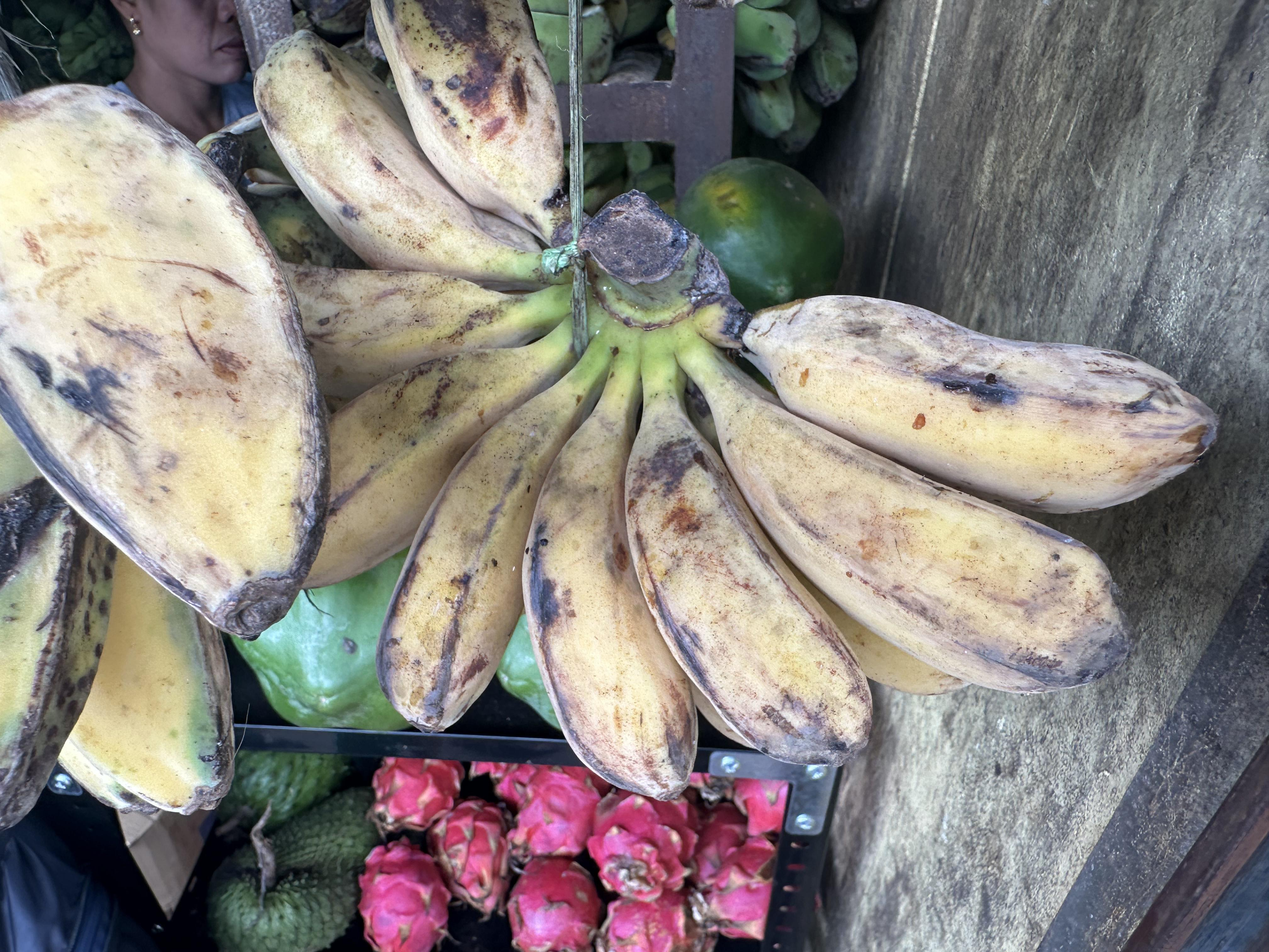ripe: (255, 0, 1217, 799), (0, 83, 329, 834)
